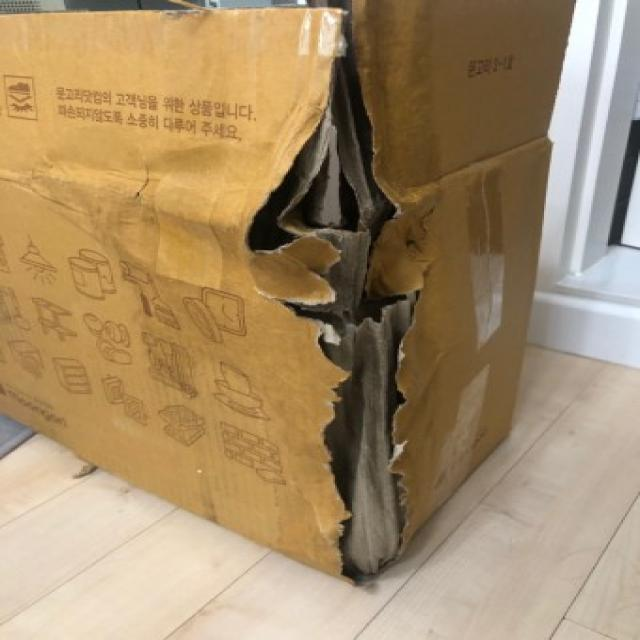hole: (261, 178, 417, 572)
